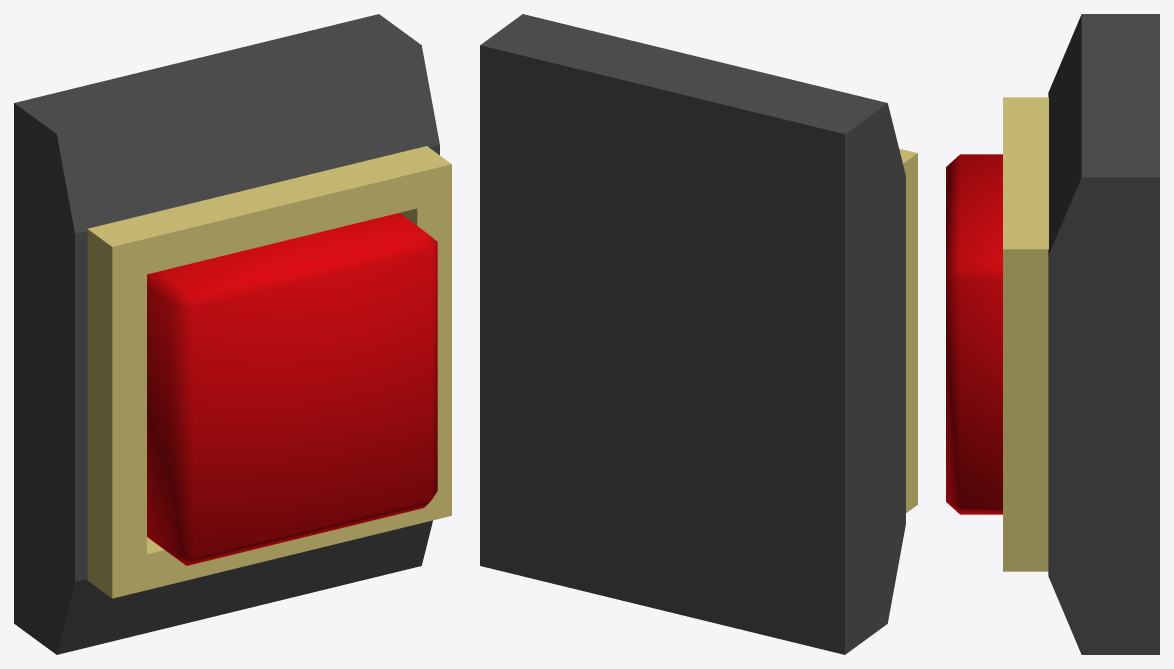
File: button.glb
3 views of the same model, side by side, from view 1: azimuth 30°, elevation 25°; view 2: azimuth 150°, elevation 25°; view 3: azimuth 270°, elevation 25° (orthographic). The views are drawn at different scales.
Visible parts, largest first — view 1: Cube, Cube.003, Cube.001; view 2: Cube, Cube.001; view 3: Cube, Cube.001, Cube.003.
Boxes of the visible parts, x1,y1,x2,y2 form: Cube: (14,14,439,654); Cube.003: (147,213,437,565); Cube.001: (87,146,451,598); Cube: (480,14,905,654); Cube.001: (899,148,917,512); Cube: (1048,14,1159,654); Cube.001: (1003,97,1048,571); Cube.003: (946,154,1002,514).
Size of the model in its own units: 0.1876 by 0.2558 by 0.1038.
